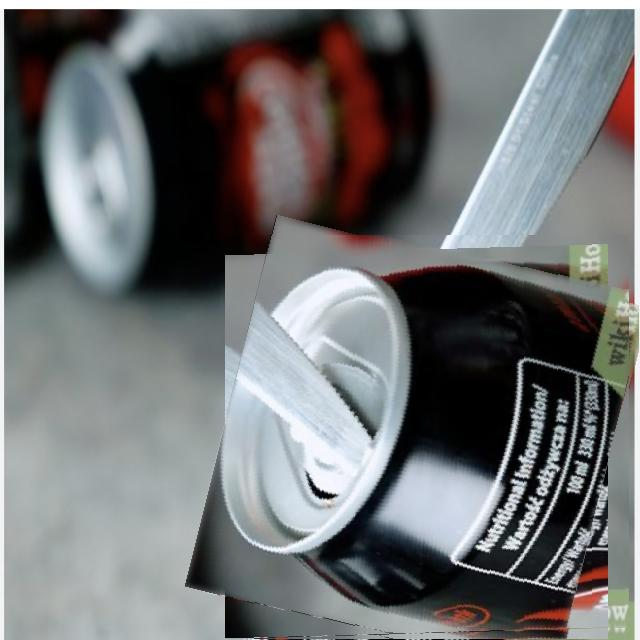recyclable: (203, 235, 629, 640)
